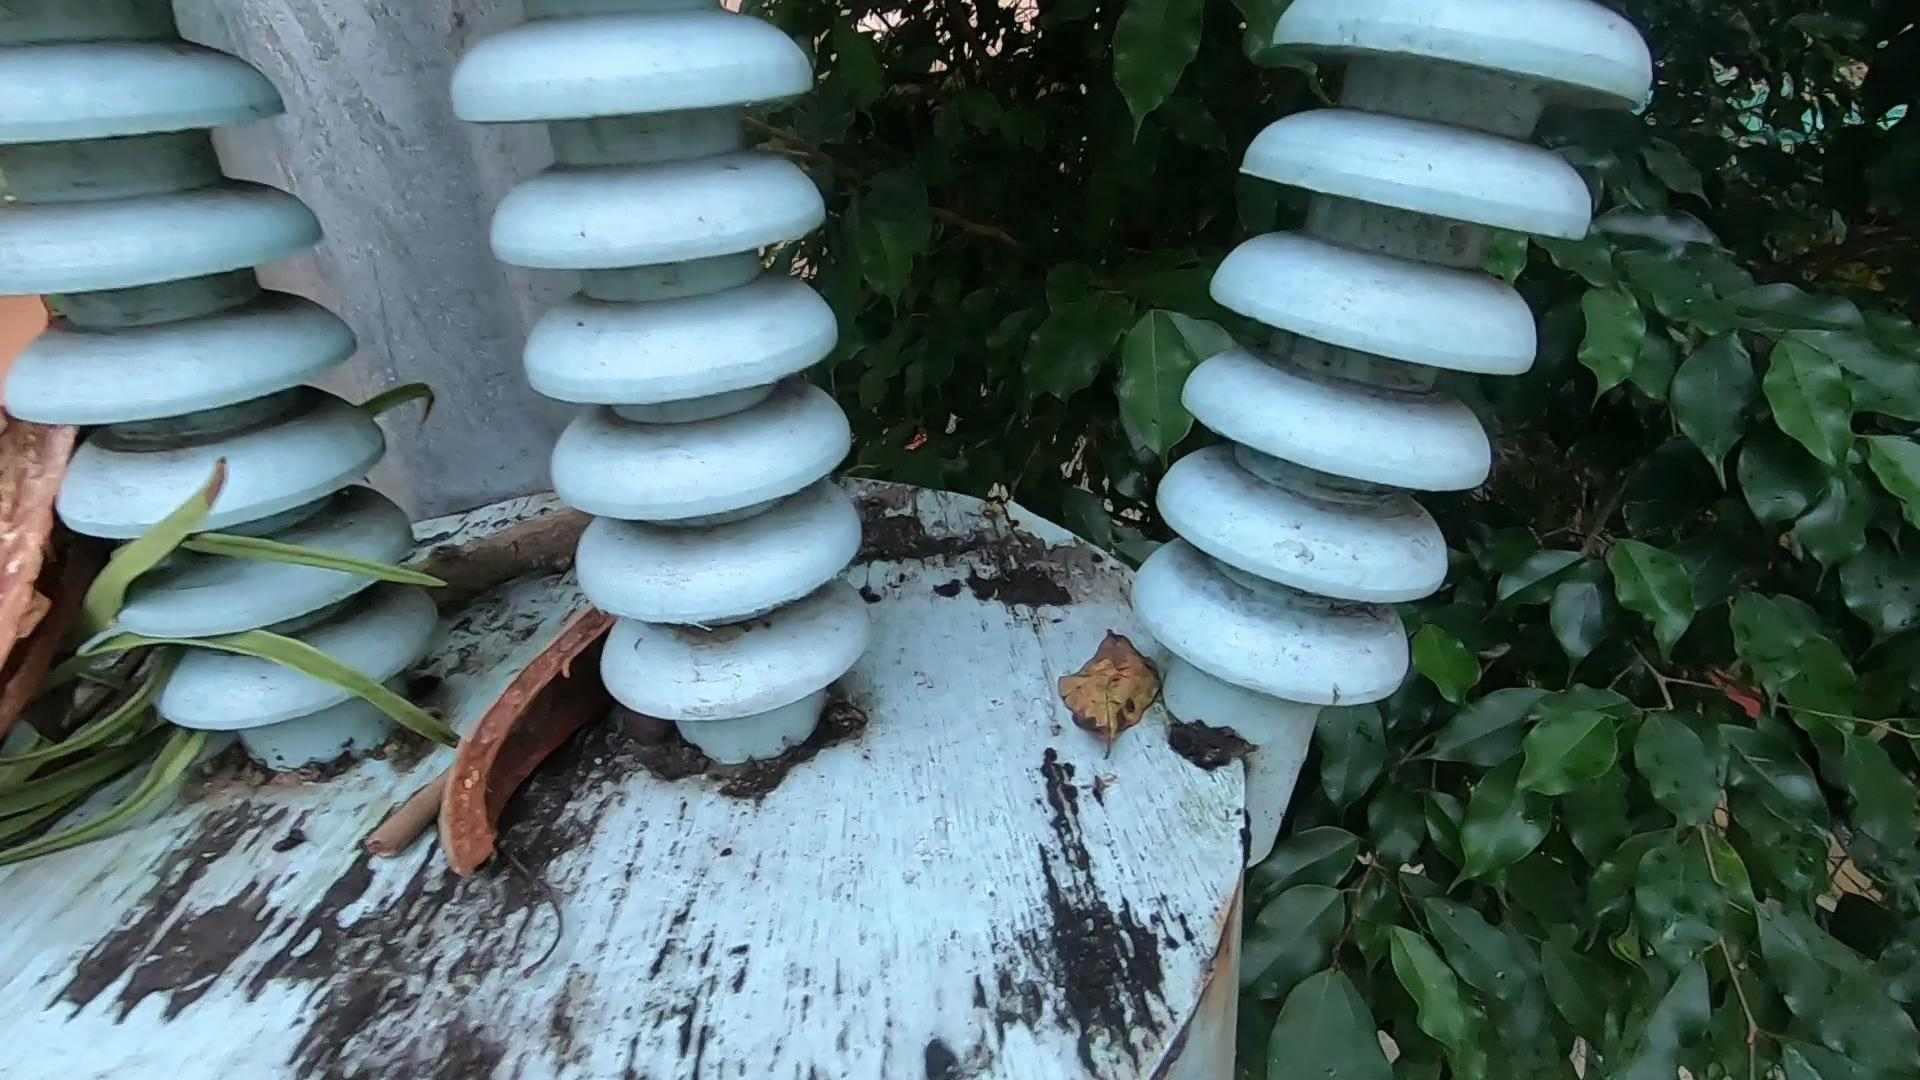branch with leaves: (1, 484, 583, 862)
leaf: (1029, 617, 1233, 800)
mahogany fruit: (1, 419, 297, 861), (404, 624, 729, 978)
tree branch: (347, 678, 628, 901)
